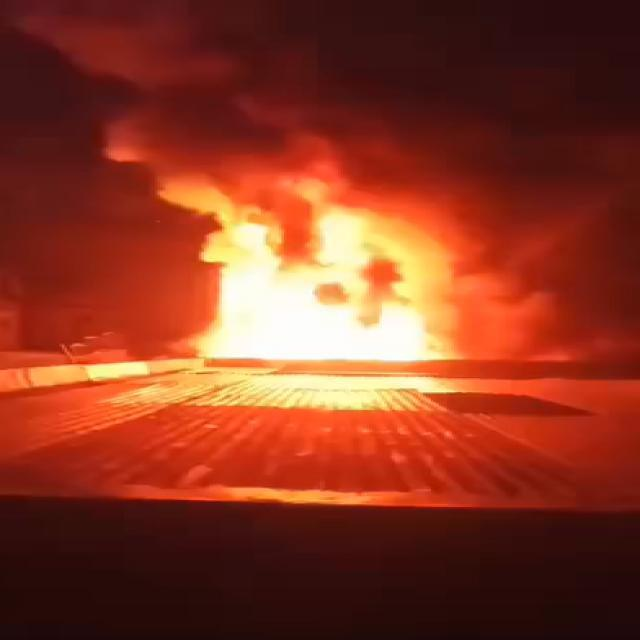Fire: (217, 230, 444, 364)
Smoke: (38, 0, 640, 273), (444, 247, 635, 366)
